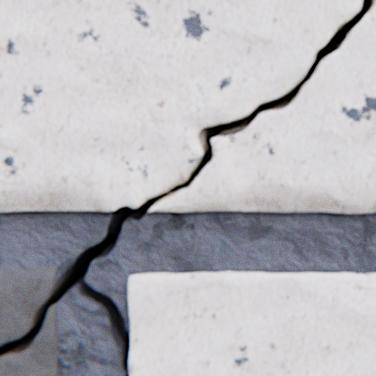brick: (129, 270, 375, 375)
broken_brick: (0, 0, 361, 211), (150, 0, 375, 212), (0, 266, 57, 344), (0, 303, 58, 375)
crack: (0, 0, 374, 375)
